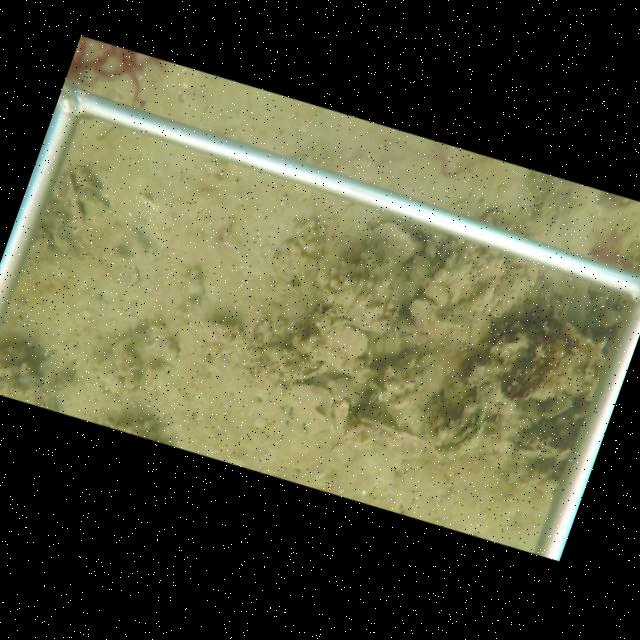Oyster-Open: (318, 317, 374, 360)
